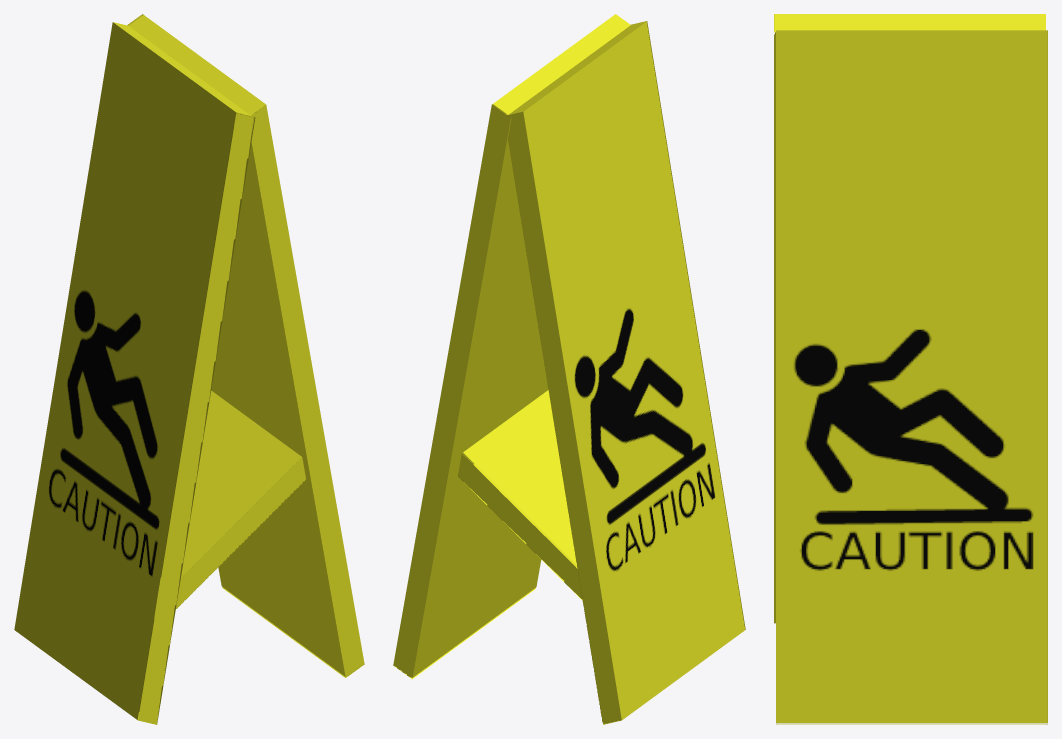
File: wetfloorsign.FBX
3 renders of one model, left to right at view 1: azimuth 30°, elevation 25°; view 2: azimuth 150°, elevation 25°; view 3: azimuth 270°, elevation 25°, orthographic. The views are drawn at different scales.
Visible parts, largest first — view 1: Box002; view 2: Box002; view 3: Box002.
Part boxes in pixels (x1,y1,x2,y2): Box002: [14, 14, 364, 724]; Box002: [393, 14, 745, 724]; Box002: [774, 14, 1047, 724].
Size of the model in its own units: 41.44 by 39.3 by 103.
Materials: 1 (1 with a texture image).
